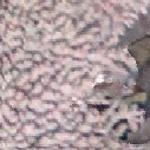alive: (6, 3, 144, 144)
